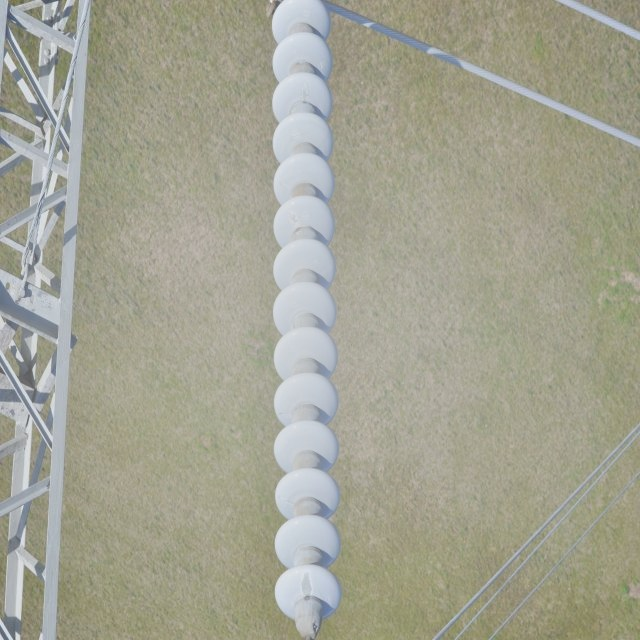insulator: (266, 0, 342, 618)
